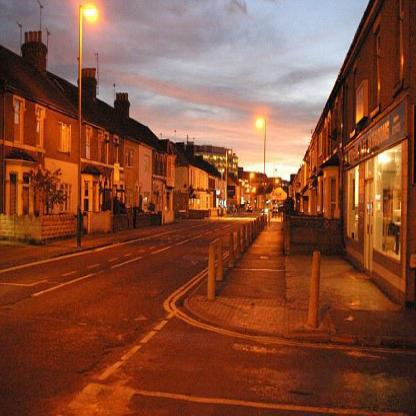other: (77, 1, 103, 32), (251, 112, 267, 137), (375, 153, 396, 168)
